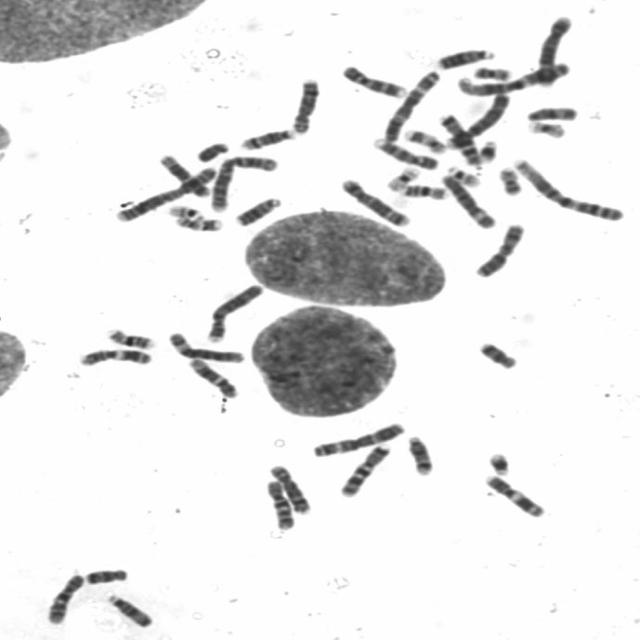A1: (509, 156, 626, 222), (454, 61, 573, 98)
A2: (112, 164, 218, 223), (206, 153, 281, 213)
A3: (380, 68, 441, 143), (309, 419, 407, 458)
B4: (442, 91, 512, 150), (202, 280, 264, 344)
B5: (338, 176, 411, 228), (533, 13, 575, 91)
C10: (43, 571, 85, 626), (261, 478, 296, 531)
C11: (481, 472, 546, 519), (75, 347, 154, 367)
C12: (155, 151, 212, 198), (184, 355, 240, 399)
C6: (438, 170, 498, 230), (165, 329, 246, 365)
C7: (336, 443, 392, 498), (436, 111, 483, 167)
C8: (265, 462, 312, 516), (289, 76, 321, 134)
C9: (339, 62, 409, 100), (369, 136, 439, 171)
D13: (230, 195, 284, 228), (435, 46, 496, 71)
D14: (236, 126, 296, 151), (403, 433, 435, 476)
D15: (104, 592, 154, 628), (522, 104, 580, 123)
E16: (103, 325, 156, 350), (398, 182, 448, 201)
E17: (401, 126, 448, 156), (172, 215, 226, 232)
E18: (476, 339, 519, 370), (83, 565, 129, 586)
F19: (382, 165, 422, 192), (525, 119, 567, 139)
F20: (495, 164, 524, 196), (470, 64, 514, 82)
G21: (485, 449, 512, 476), (474, 136, 500, 164)
G22: (445, 164, 482, 188), (166, 203, 207, 220)
X: (471, 221, 528, 279)
Y: (192, 139, 230, 163)
